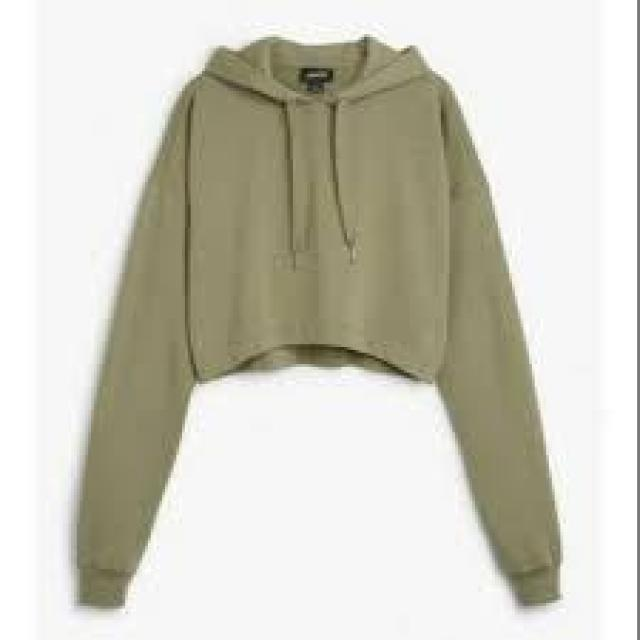sweater: (40, 20, 597, 631)
